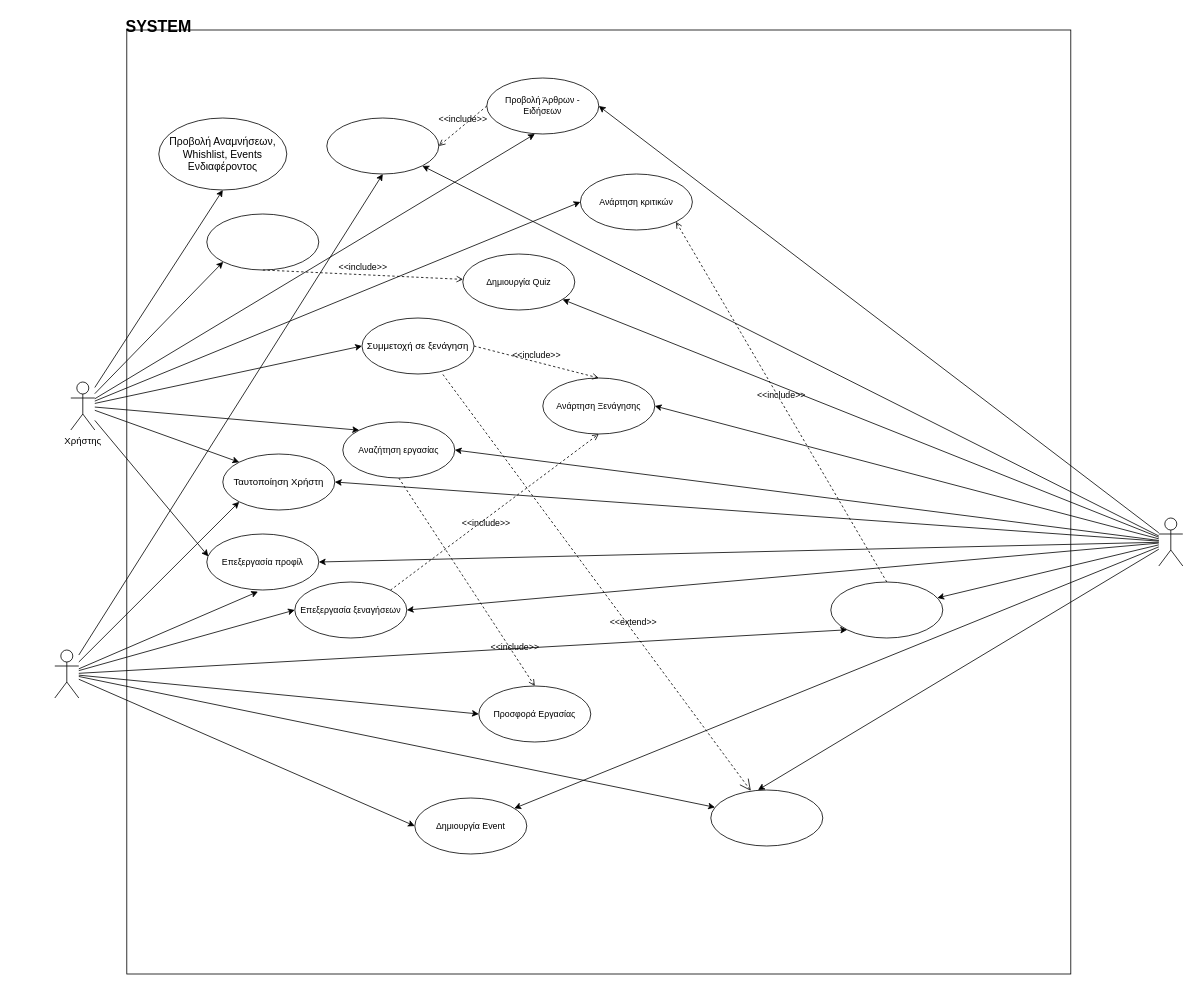
This 1202x988 diagram has some shape labels left out. The centre of each missing label's shape, as x and y in pixels:
"Έλεγχος κριτικών" belongs at [886,609].
"Ανάρτηση άρθρων" belongs at [382,145].
"Δημιουργία εικονικής ξενάγησης" belongs at [766,817].
"Ξεναγός" belongs at [1170,541].
"Πολιτιστικός Οργανισμός" belongs at [66,673].
"Συμμετοχή σε Quiz" belongs at [262,241].
